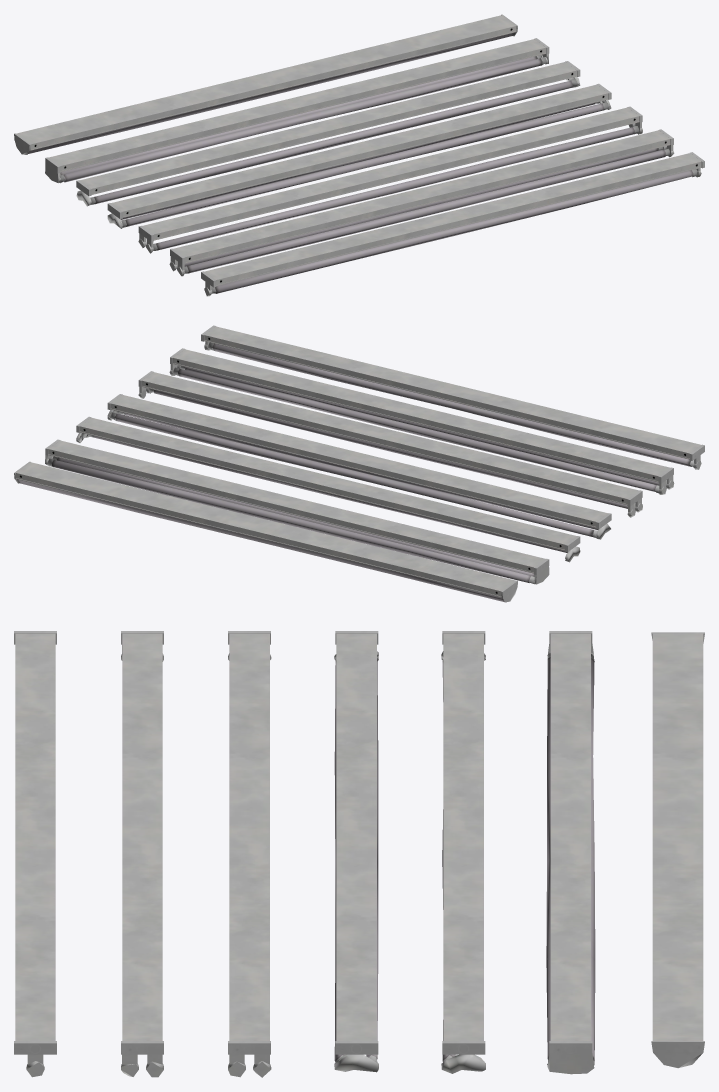
Rendered from mounted_fluorescent_lights.glb.
3 views of the same model, one above another, from view 1: azimuth 30°, elevation 25°; view 2: azimuth 150°, elevation 25°; view 3: azimuth 270°, elevation 25° (orthographic). The views are drawn at different scales.
Visible parts, largest first — view 1: mounted_fluorescent_lights_a; view 2: mounted_fluorescent_lights_a; view 3: mounted_fluorescent_lights_a.
Boxes of the visible parts, bbox=[...] form: mounted_fluorescent_lights_a: bbox=[14, 14, 704, 296]; mounted_fluorescent_lights_a: bbox=[14, 325, 704, 602]; mounted_fluorescent_lights_a: bbox=[14, 631, 704, 1077].
Size of the model in its own units: 0.9122 by 0.0353 by 0.6453.
Materials: 2 (2 with a texture image).
